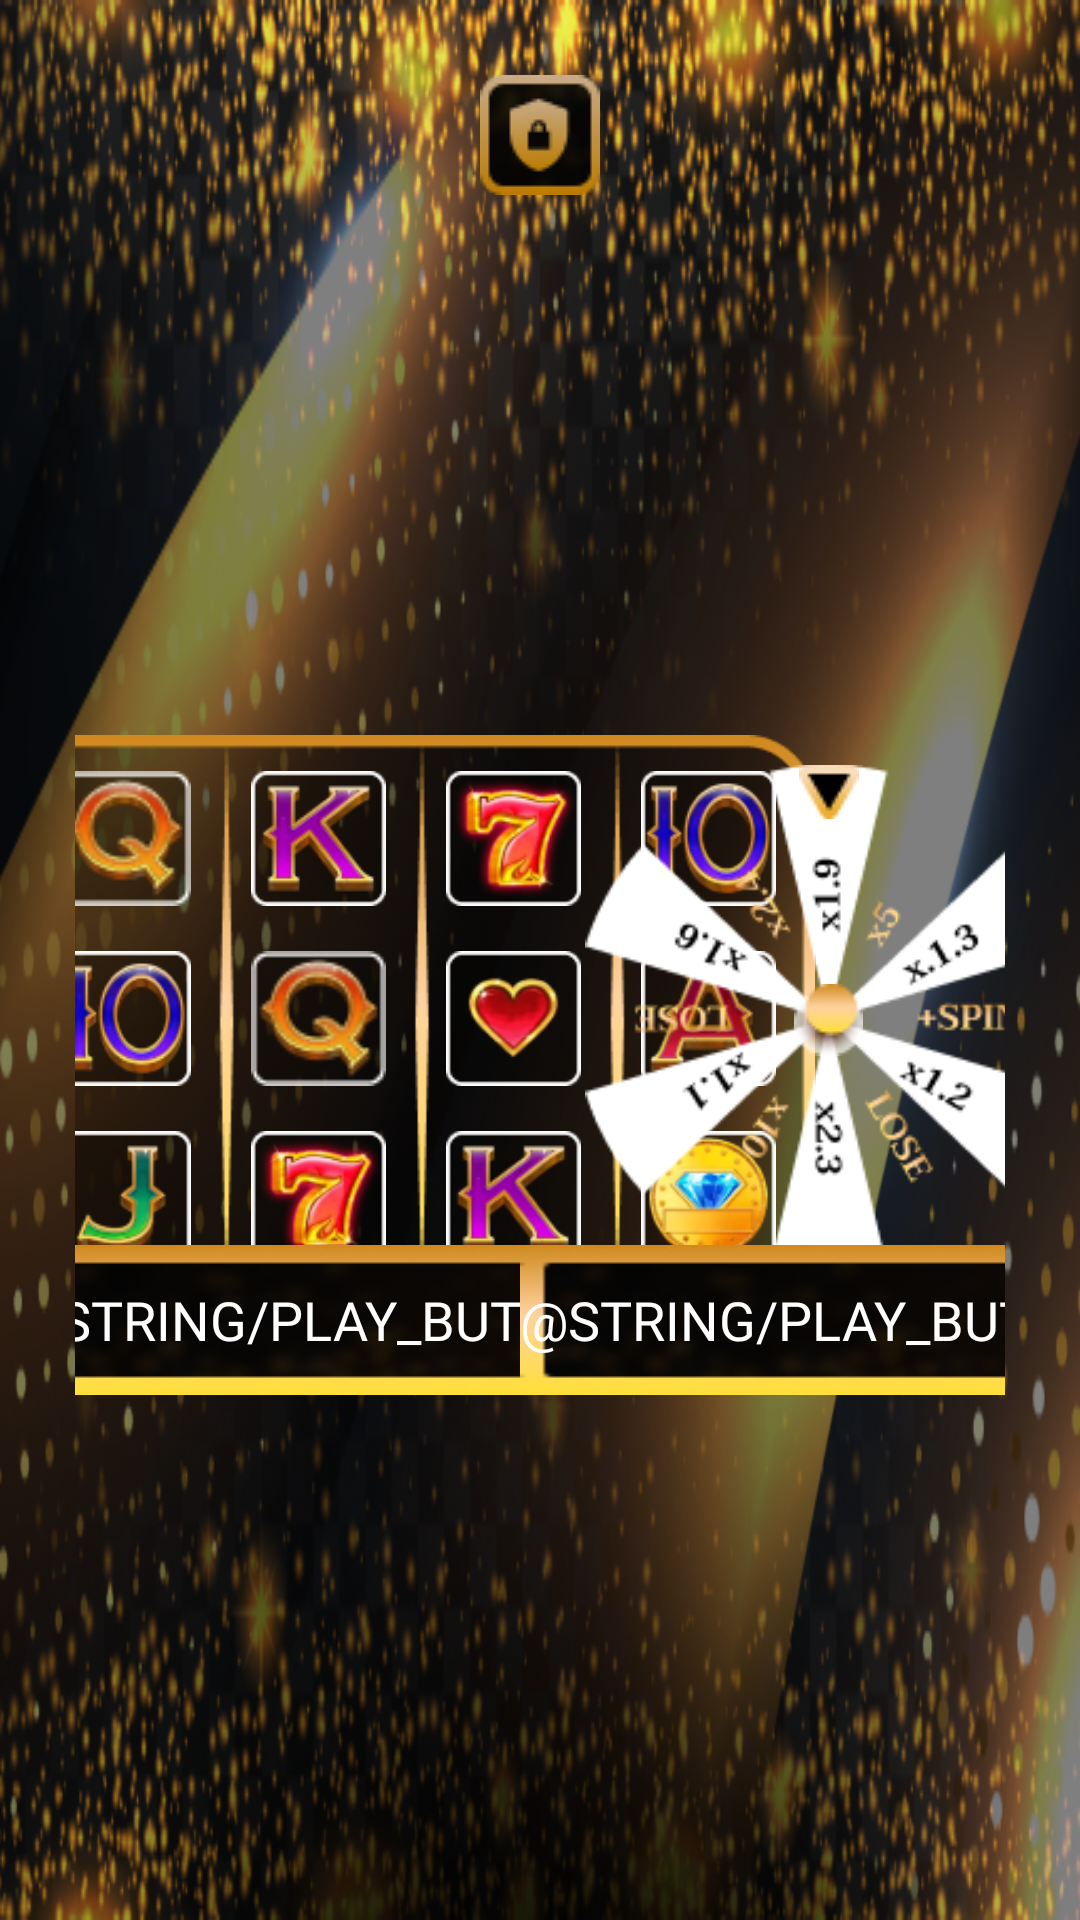

Point at icon controls on the screen. Image size 1080×1920, points as (x=x, y=y).
pokies heart: (x=513, y=1018)
privacy: (x=540, y=135)
